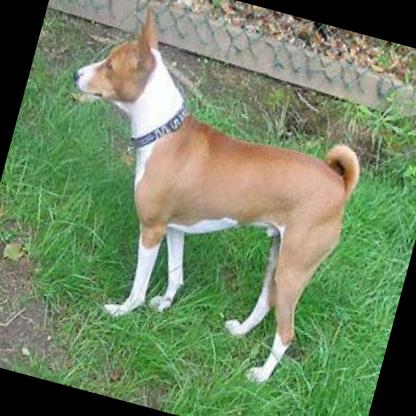basenji: (0, 0, 399, 398)
